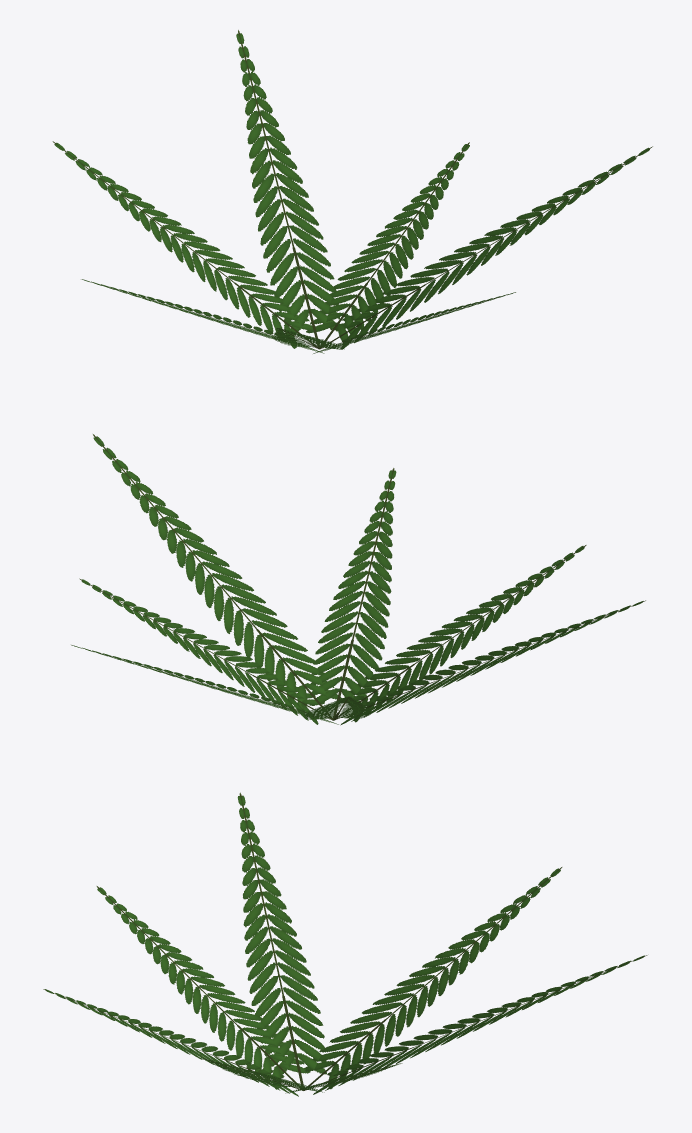
File: SM_Art_Veg_Fern_1.gltf
3 renders of one model, top to bottom at view 1: azimuth 30°, elevation 25°; view 2: azimuth 150°, elevation 25°; view 3: azimuth 270°, elevation 25°, orthographic. The views are drawn at different scales.
Parts seen in each view (by area): view 1: SM_Art_Veg_Fern_1; view 2: SM_Art_Veg_Fern_1; view 3: SM_Art_Veg_Fern_1.
Boxes of the visible parts, <box> form: SM_Art_Veg_Fern_1: <box>52,30,652,353</box>; SM_Art_Veg_Fern_1: <box>71,434,645,725</box>; SM_Art_Veg_Fern_1: <box>43,792,647,1096</box>.
Bounding box in the file's own units: 2.25 × 0.6475 × 2.11.
1 material, 1 textured.
